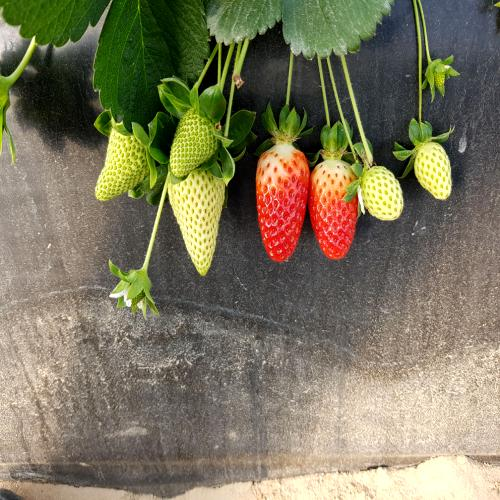partially-ripe: (304, 146, 362, 262)
ripe: (252, 126, 310, 274)
unripe: (157, 142, 232, 286), (356, 142, 408, 226)
